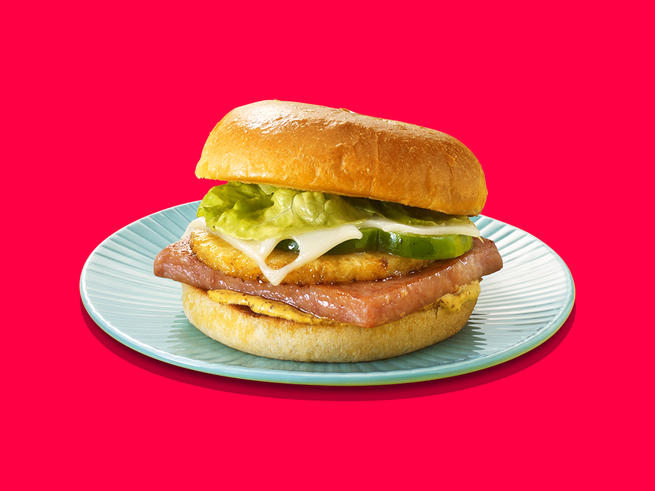hamburger: (136, 105, 506, 373)
